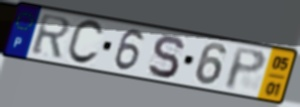6: (193, 42, 229, 87), (113, 28, 146, 73)
C: (64, 18, 106, 67)
P: (223, 45, 268, 92)
R: (29, 13, 73, 60)
S: (146, 33, 185, 80)
